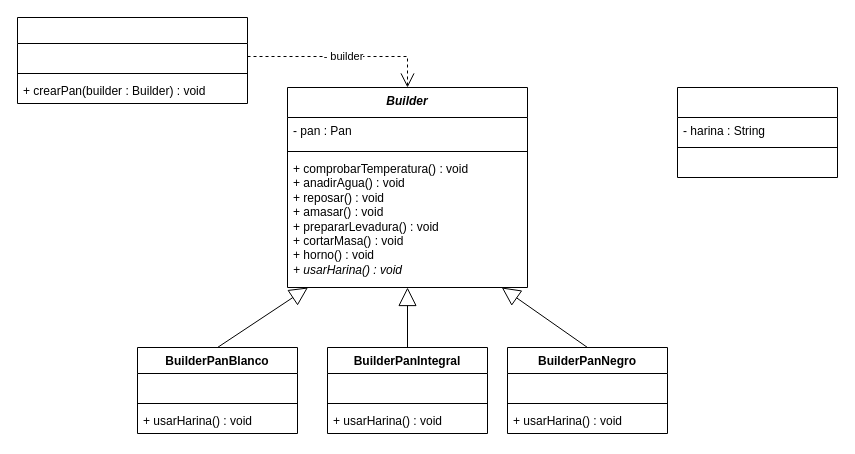
Image size: 855x454. Some labels were removed from this diagram. Each missing label, with the box of its shape:
Pan: (676, 86, 838, 178)
Panadero: (16, 16, 248, 104)
